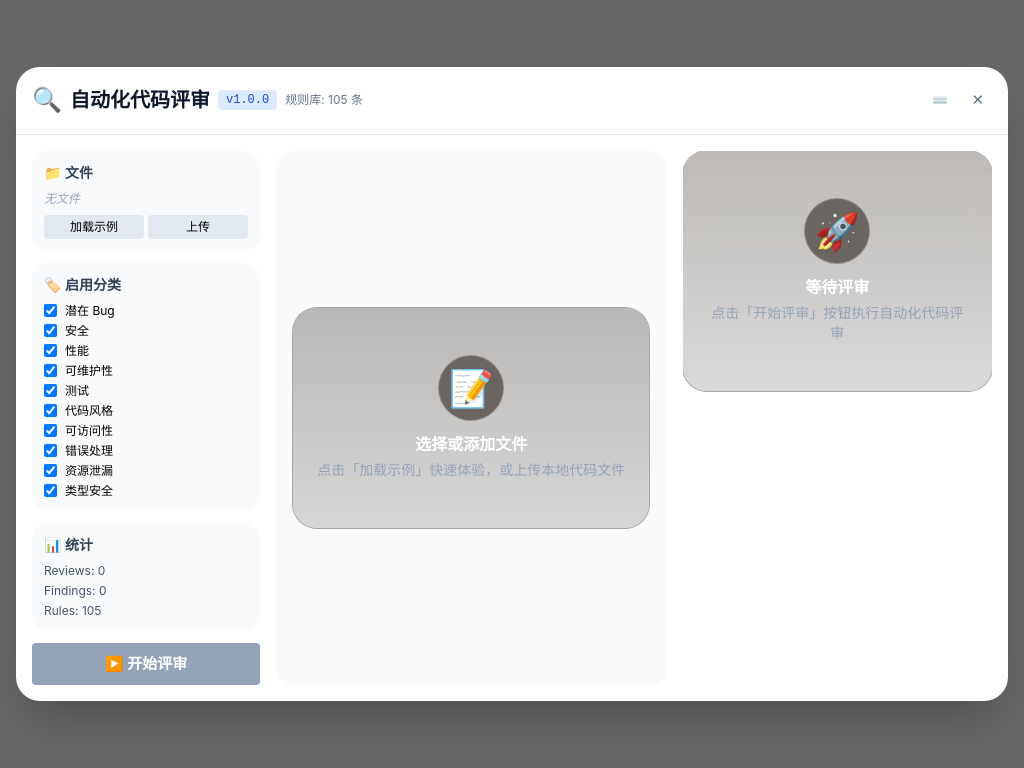
Test: AutoCodeReviewPanel › 执行评审并展示结果
The image size is (1024, 768).
Click the button "加载示例": point(94, 226) x1=44 y1=214 x2=144 y2=238
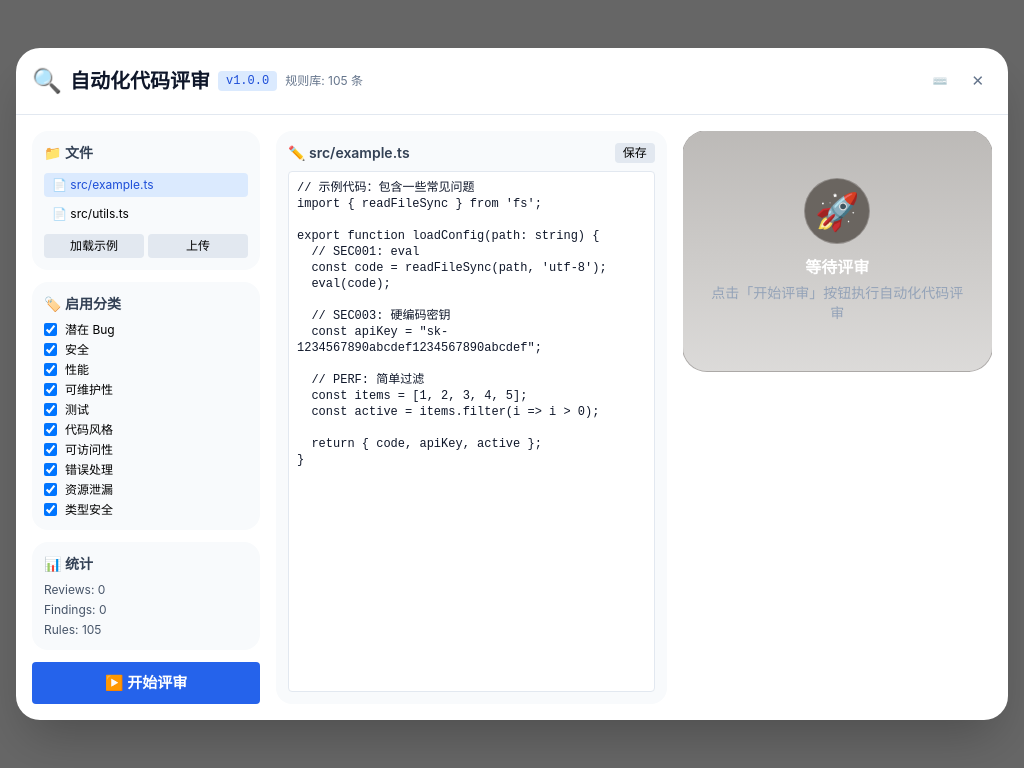
Click the button with test id "run-review-btn": point(146, 683) x1=32 y1=662 x2=260 y2=704
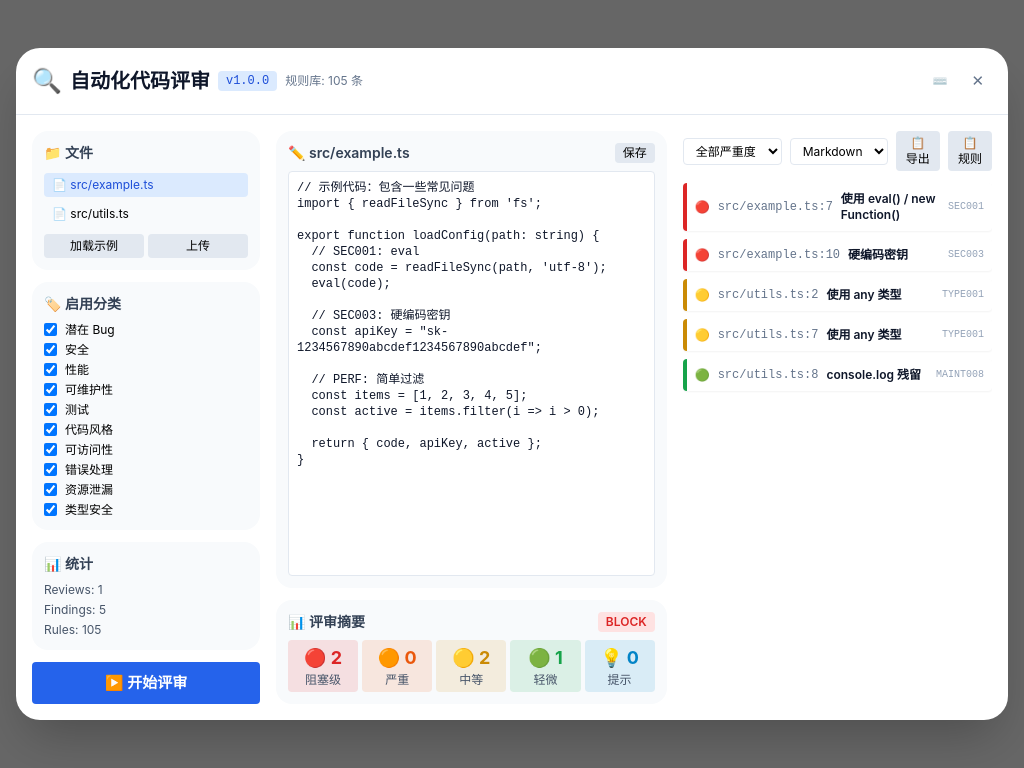
Expected: the heading "📊 评审摘要" is shown, x1=288 y1=612 x2=365 y2=632
